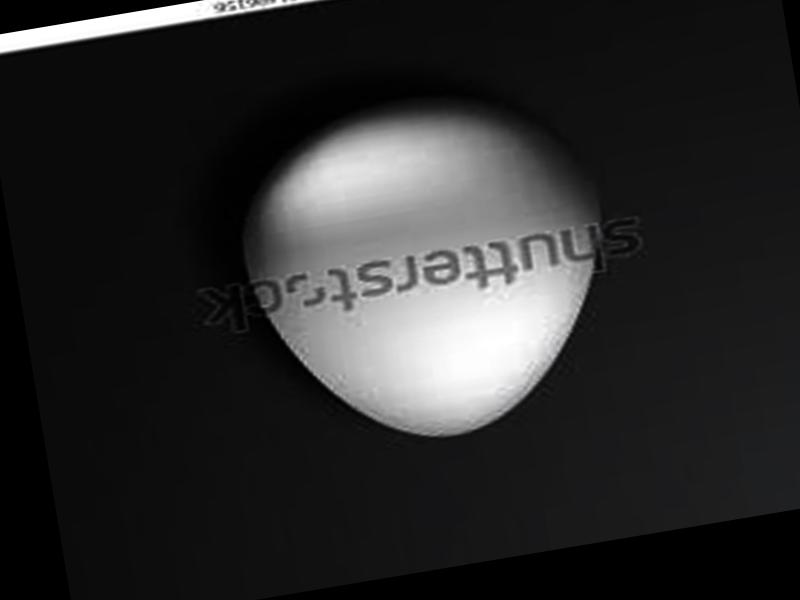Eggs: (223, 73, 632, 467)
